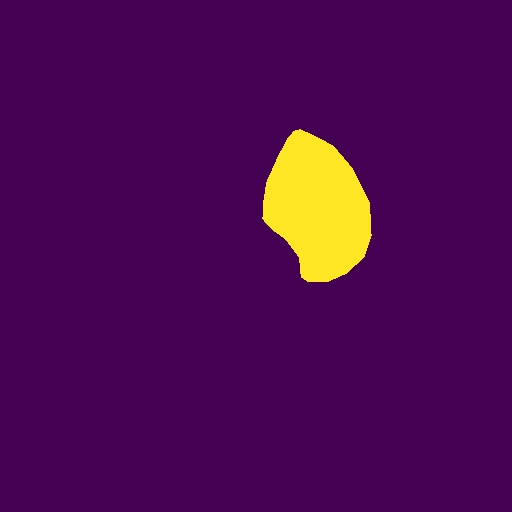Gliomia_tumour: (262, 129, 372, 282)
